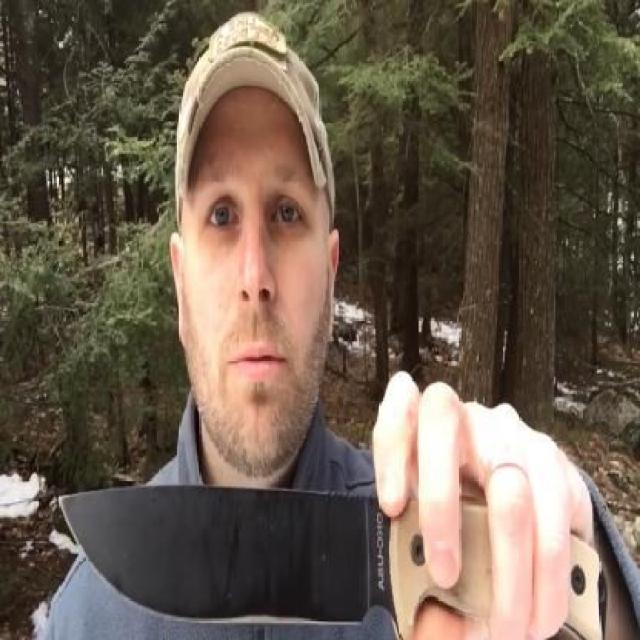knife: (50, 361, 534, 640)
